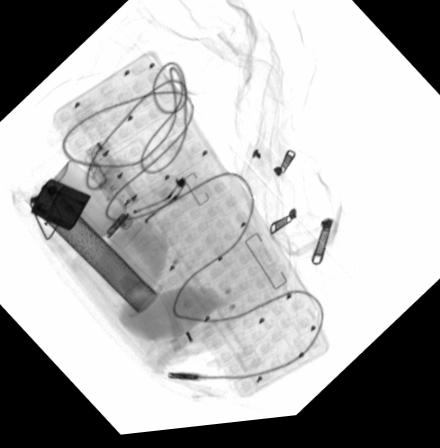Lighter: (29, 180, 90, 233)
Sprayer: (45, 161, 142, 253)
